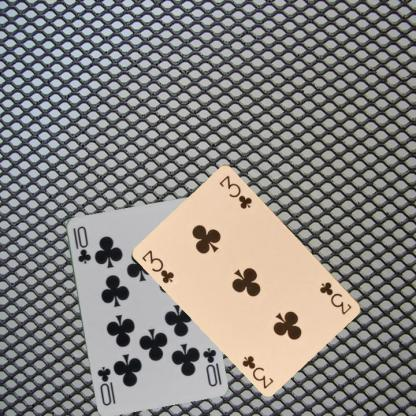10c: (70, 223, 92, 265), (200, 345, 218, 388)
3c: (139, 247, 176, 285), (317, 279, 354, 316)
